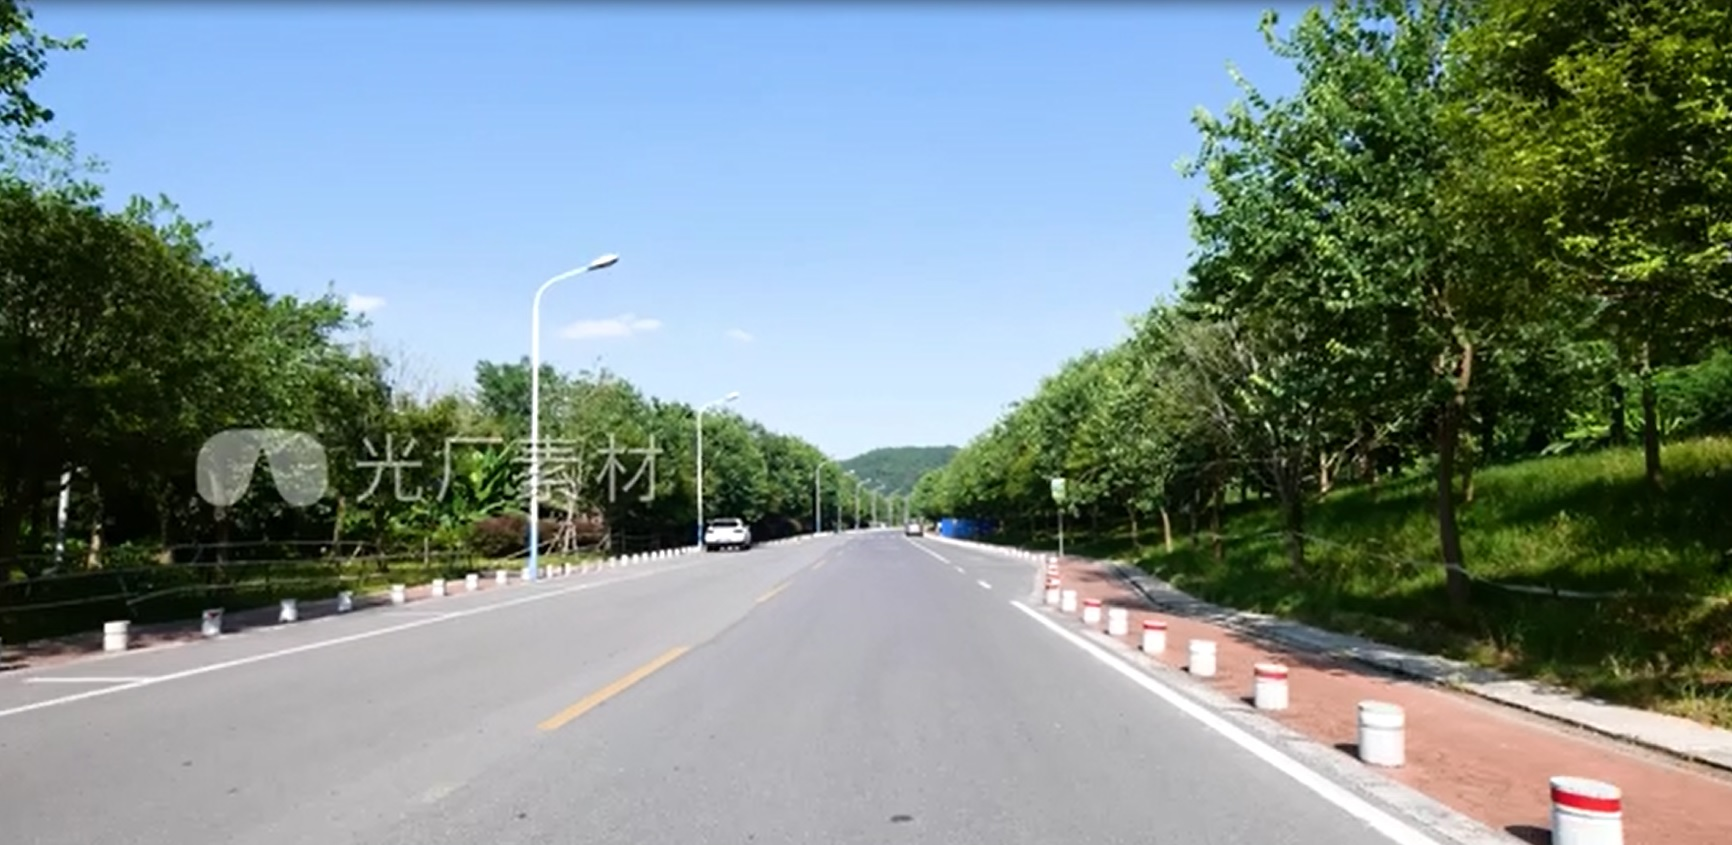slot_nocar: (20, 594, 475, 704), (384, 558, 591, 637)
